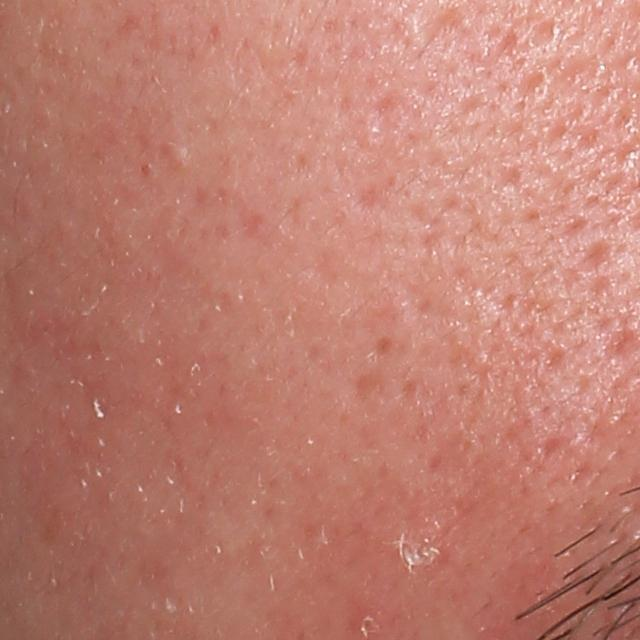atrophic_scar: (577, 231, 620, 273), (423, 5, 463, 43)
comedo: (158, 136, 196, 168)
